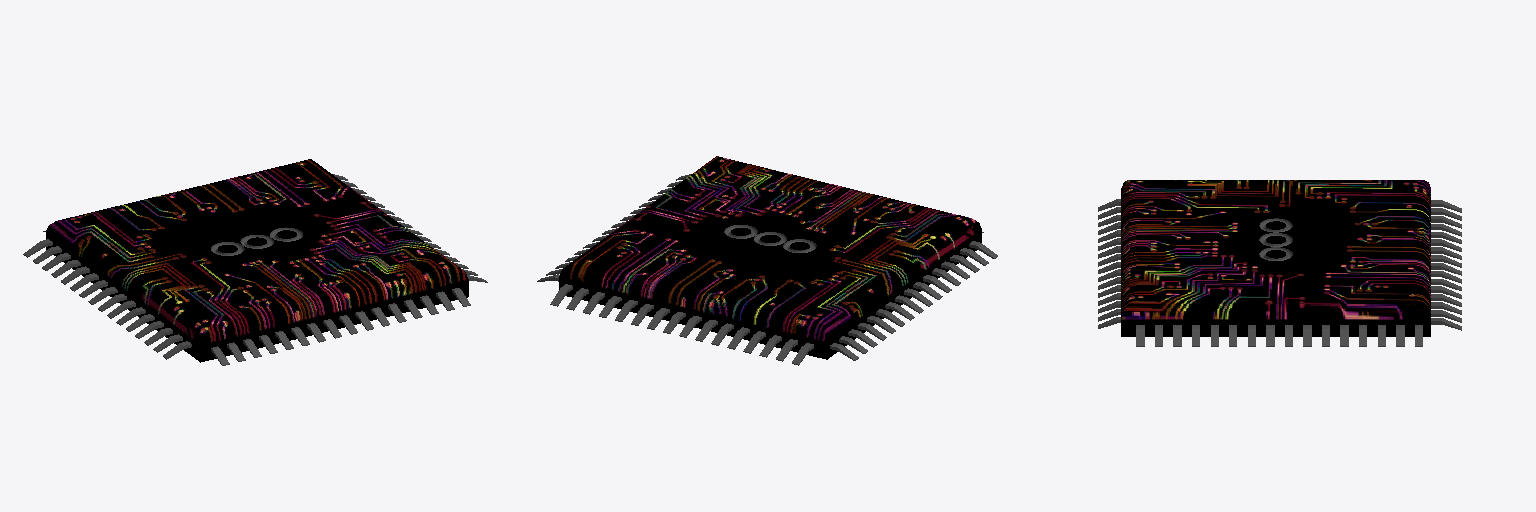
The picture shows the model from 3 angles: view 1: azimuth 30°, elevation 25°; view 2: azimuth 150°, elevation 25°; view 3: azimuth 270°, elevation 25°; orthographic projection.
Visible parts, largest first — view 1: Chip_Cube.001_Material.001; view 2: Chip_Cube.001_Material.001; view 3: Chip_Cube.001_Material.001.
Part boxes in pixels (x1,y1,x2,y2): Chip_Cube.001_Material.001: (23,159,487,365); Chip_Cube.001_Material.001: (537,156,997,365); Chip_Cube.001_Material.001: (1098,180,1461,346).
Bounding box in the file's own units: 2.38 × 0.2251 × 2.35.
Materials: 1 (1 with a texture image).